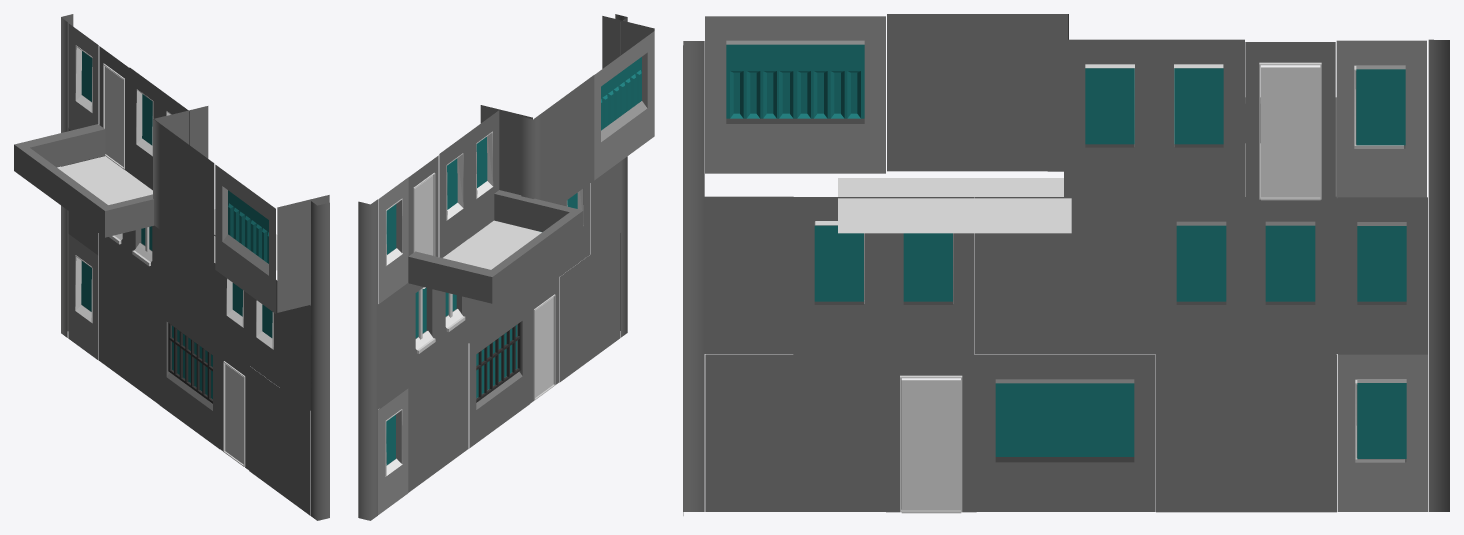
File: Grand mur.fbx
3 renders of one model, left to right at view 1: azimuth 30°, elevation 25°; view 2: azimuth 150°, elevation 25°; view 3: azimuth 270°, elevation 25°, orthographic. The views are drawn at different scales.
Parts seen in each view (by area): view 1: Object079, Object074, Object062, Object064, Object075, Object060, Object067, Object068, Demi Mur 009, Object065, Demi Mur 006, Object076 (+24 smaller); view 2: Object079, Object062, Object074, Object064, Object076, Object075, Object060, Object070, Demi Mur 007, Object081, Object065, Plane004 (+22 smaller); view 3: Object064, Object062, Object074, Object070, Object076, Object060, Object075, Object067, Object068, Object066, Object065, Demi Mur 006 (+14 smaller).
Boxes of the visible parts, left/top/right/bottom form: Object079: left=14, top=124, right=153, bottom=237; Object074: left=215, top=164, right=275, bottom=313; Object062: left=249, top=366, right=309, bottom=515; Object064: left=99, top=256, right=159, bottom=404; Object075: left=153, top=119, right=214, bottom=268; Object060: left=159, top=300, right=219, bottom=449; Object067: left=159, top=229, right=219, bottom=343; Object068: left=220, top=273, right=279, bottom=387; Demi Mur 009: left=277, top=195, right=329, bottom=312; Object065: left=68, top=234, right=98, bottom=360; Demi Mur 006: left=280, top=305, right=310, bottom=410; Object076: left=129, top=67, right=189, bottom=189; Object079: left=408, top=190, right=583, bottom=303; Object062: left=559, top=233, right=620, bottom=382; Object074: left=594, top=31, right=654, bottom=180; Object064: left=408, top=344, right=468, bottom=492; Object076: left=439, top=110, right=499, bottom=257; Object075: left=534, top=75, right=594, bottom=204; Object060: left=469, top=299, right=529, bottom=448; Object070: left=409, top=238, right=469, bottom=386; Demi Mur 007: left=379, top=282, right=409, bottom=409; Object081: left=378, top=177, right=408, bottom=304; Object065: left=378, top=388, right=408, bottom=514; Plane004: left=443, top=220, right=541, bottom=269; Object064: left=1156, top=354, right=1336, bottom=512; Object062: left=705, top=354, right=885, bottom=511; Object074: left=705, top=16, right=885, bottom=173; Object070: left=1155, top=197, right=1336, bottom=354; Object076: left=1064, top=39, right=1244, bottom=197; Object060: left=976, top=354, right=1155, bottom=511; Object075: left=887, top=14, right=1067, bottom=171; Object067: left=974, top=197, right=1155, bottom=354; Object068: left=793, top=197, right=974, bottom=354; Object066: left=1337, top=197, right=1427, bottom=354; Object065: left=1337, top=354, right=1427, bottom=511; Demi Mur 006: left=704, top=196, right=793, bottom=353.
Bounding box in the file's own units: 124 × 284 × 417.
